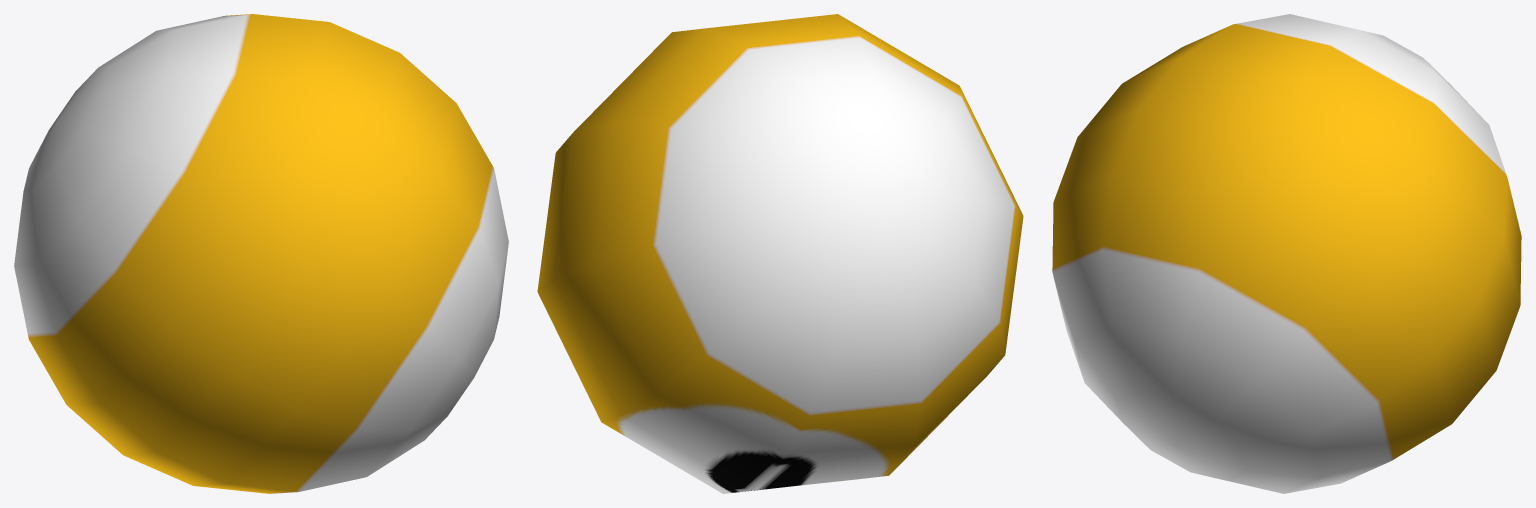
File: Ball9.gltf
3 views of the same model, side by side, from view 1: azimuth 30°, elevation 25°; view 2: azimuth 150°, elevation 25°; view 3: azimuth 270°, elevation 25° (orthographic). The views are drawn at different scales.
Visible parts, largest first — view 1: Ball9_Material_#34_0; view 2: Ball9_Material_#34_0; view 3: Ball9_Material_#34_0.
Boxes of the visible parts, x1=… form: Ball9_Material_#34_0: x1=14, y1=14, x2=508, y2=493; Ball9_Material_#34_0: x1=537, y1=14, x2=1023, y2=493; Ball9_Material_#34_0: x1=1052, y1=14, x2=1521, y2=493.
Size of the model in its own units: 5.74 by 5.69 by 5.66.
1 material, 1 textured.
